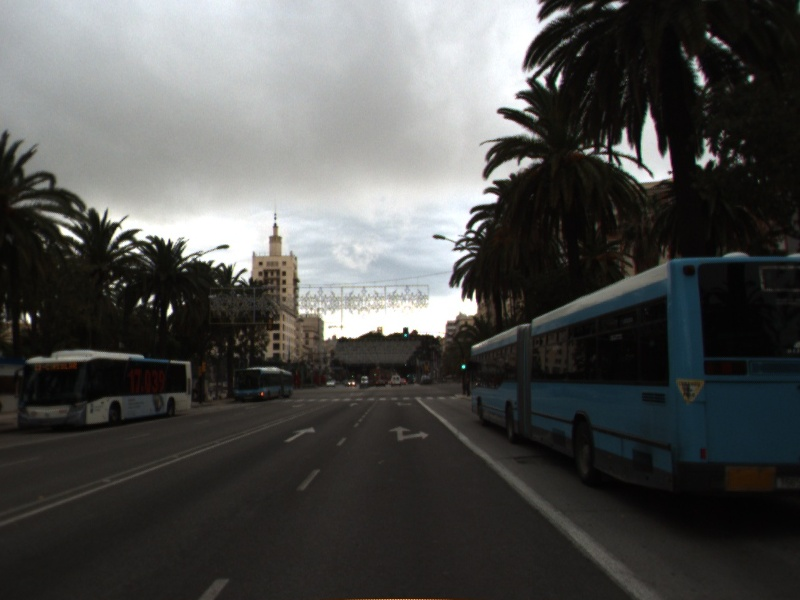STRAIGHT: (281, 425, 317, 444)
STRAIGHT_RIGHT: (387, 424, 431, 443)
